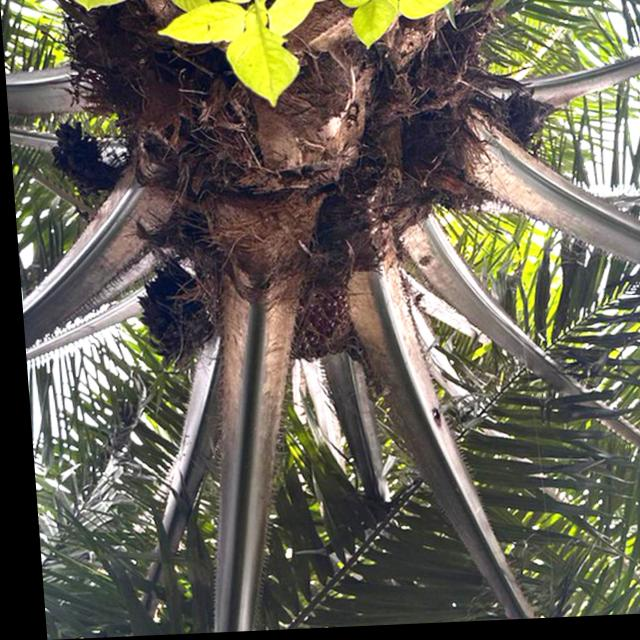ripe: (271, 261, 367, 378)
